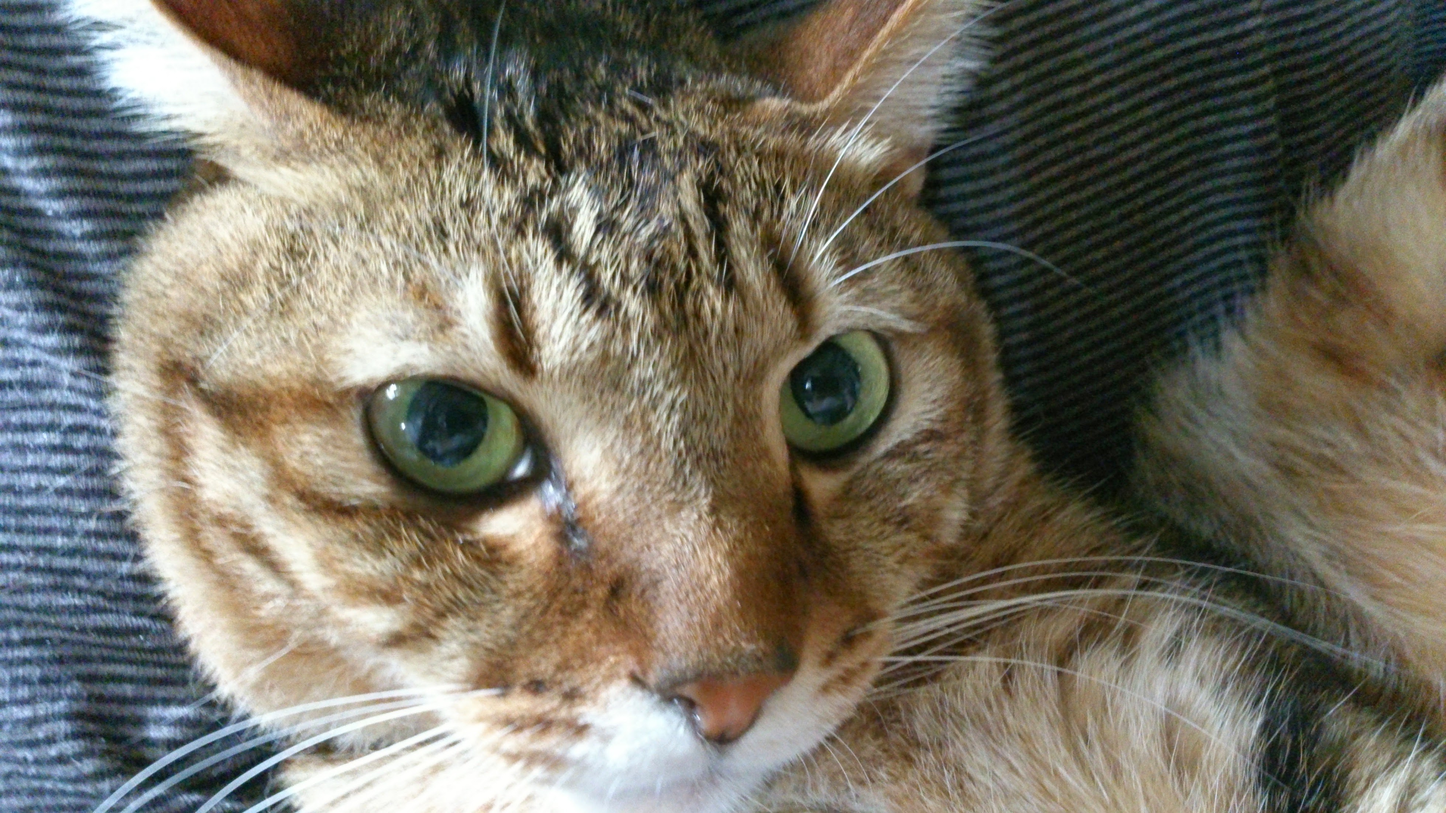cat: (74, 3, 1446, 813)
